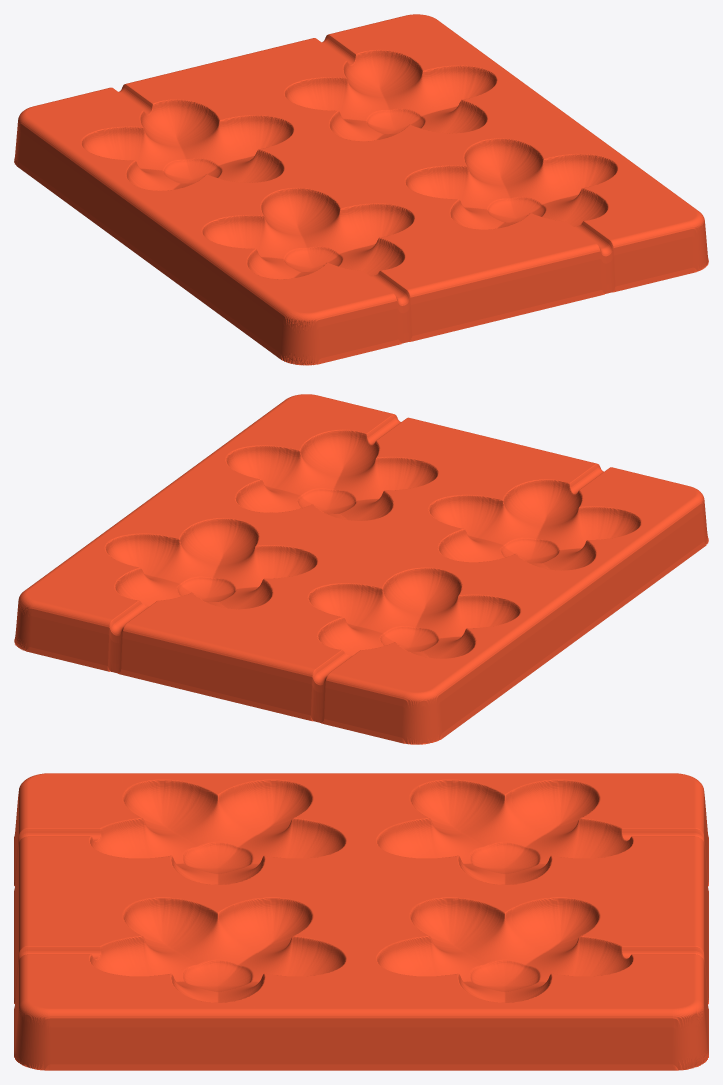
The model's file is mold.glb.
The picture shows the model from 3 angles, top to bottom: view 1: azimuth 30°, elevation 25°; view 2: azimuth 150°, elevation 25°; view 3: azimuth 270°, elevation 25°; orthographic projection. The views are drawn at different scales.
Parts seen in each view (by area): view 1: geometry_0; view 2: geometry_0; view 3: geometry_0.
Part boxes in pixels (x1,y1,x2,y2): geometry_0: [14, 14, 708, 365]; geometry_0: [14, 394, 708, 744]; geometry_0: [14, 773, 708, 1070].
Bounding box in the file's own units: 0.1456 × 0.0155 × 0.1735.
